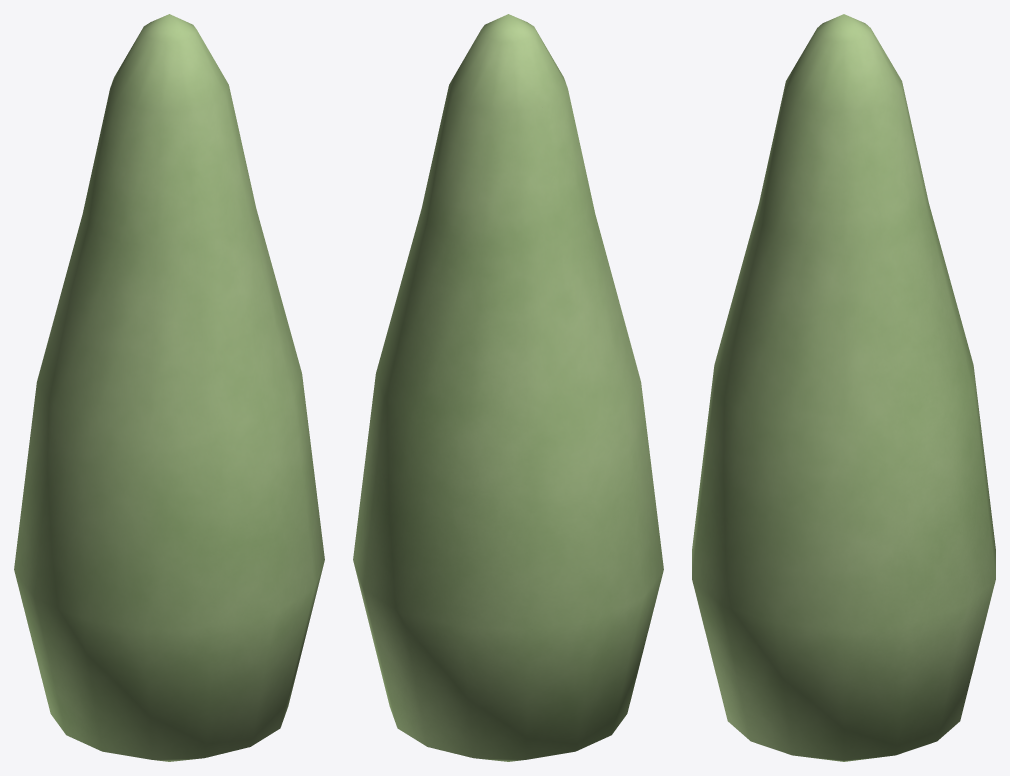
Rendered from bottle_gourd.glb.
3 views of the same model, side by side, from view 1: azimuth 30°, elevation 25°; view 2: azimuth 150°, elevation 25°; view 3: azimuth 270°, elevation 25° (orthographic).
Visible parts, largest first — view 1: bottle_gourd; view 2: bottle_gourd; view 3: bottle_gourd.
Part boxes in pixels (x1=…): bottle_gourd: x1=14, y1=14, x2=324, y2=761; bottle_gourd: x1=353, y1=14, x2=663, y2=761; bottle_gourd: x1=692, y1=14, x2=995, y2=761.
Size of the model in its own units: 0.136 by 0.36 by 0.1326.
Materials: 1 (1 with a texture image).
